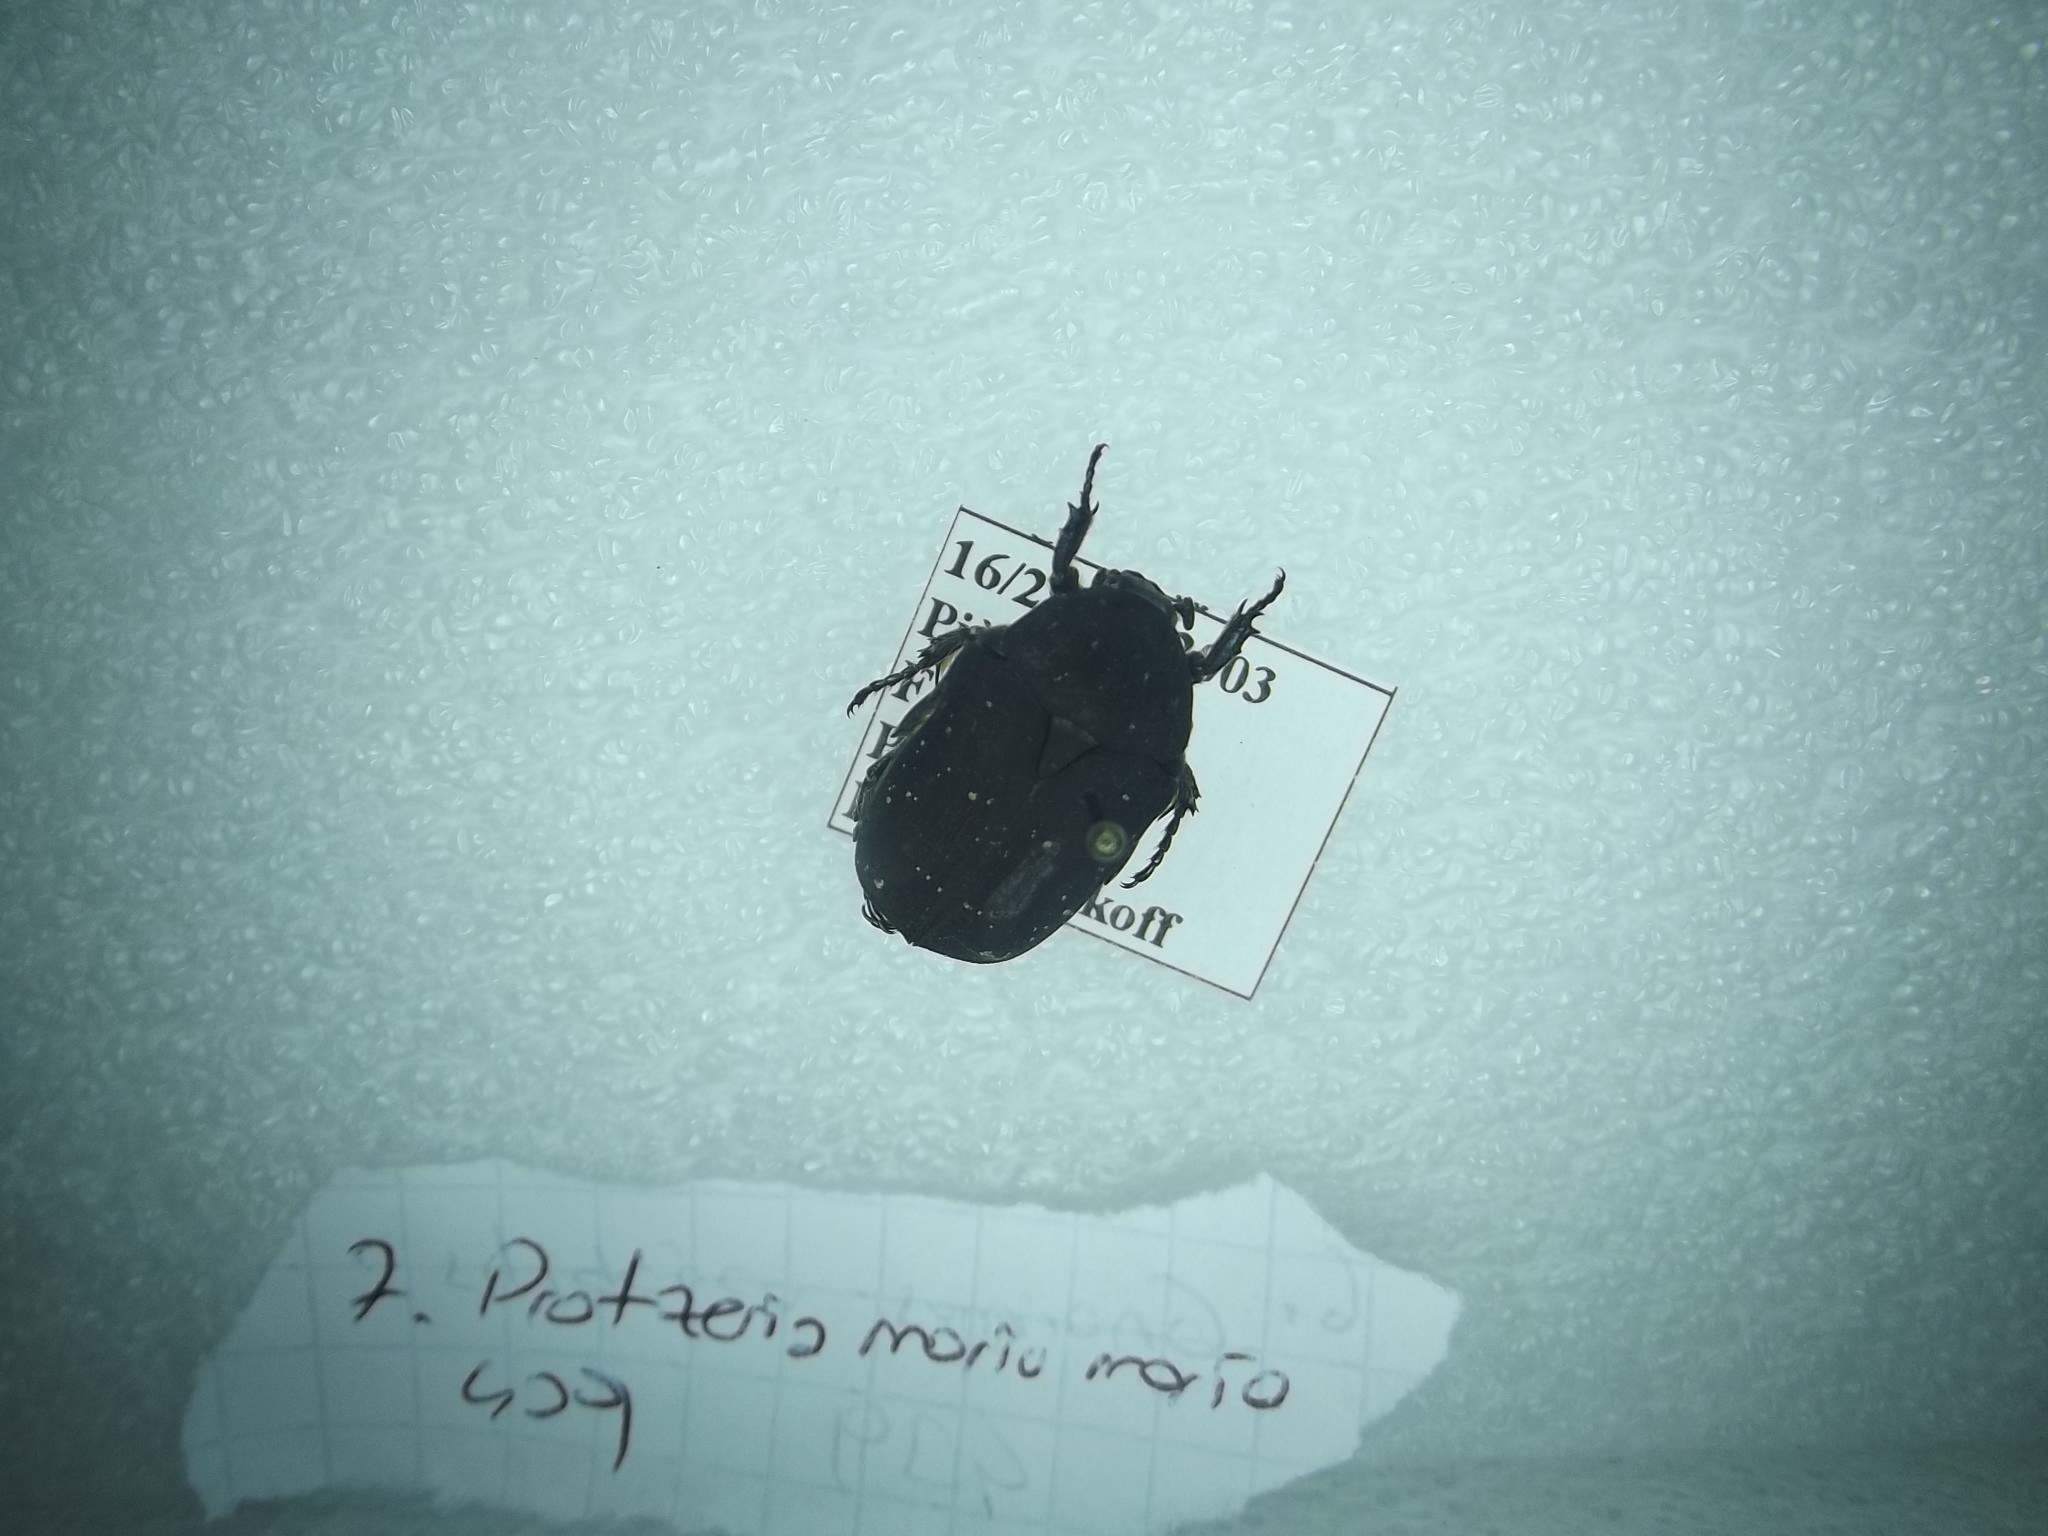Protaetia_morio_morio: (842, 440, 1301, 991)
